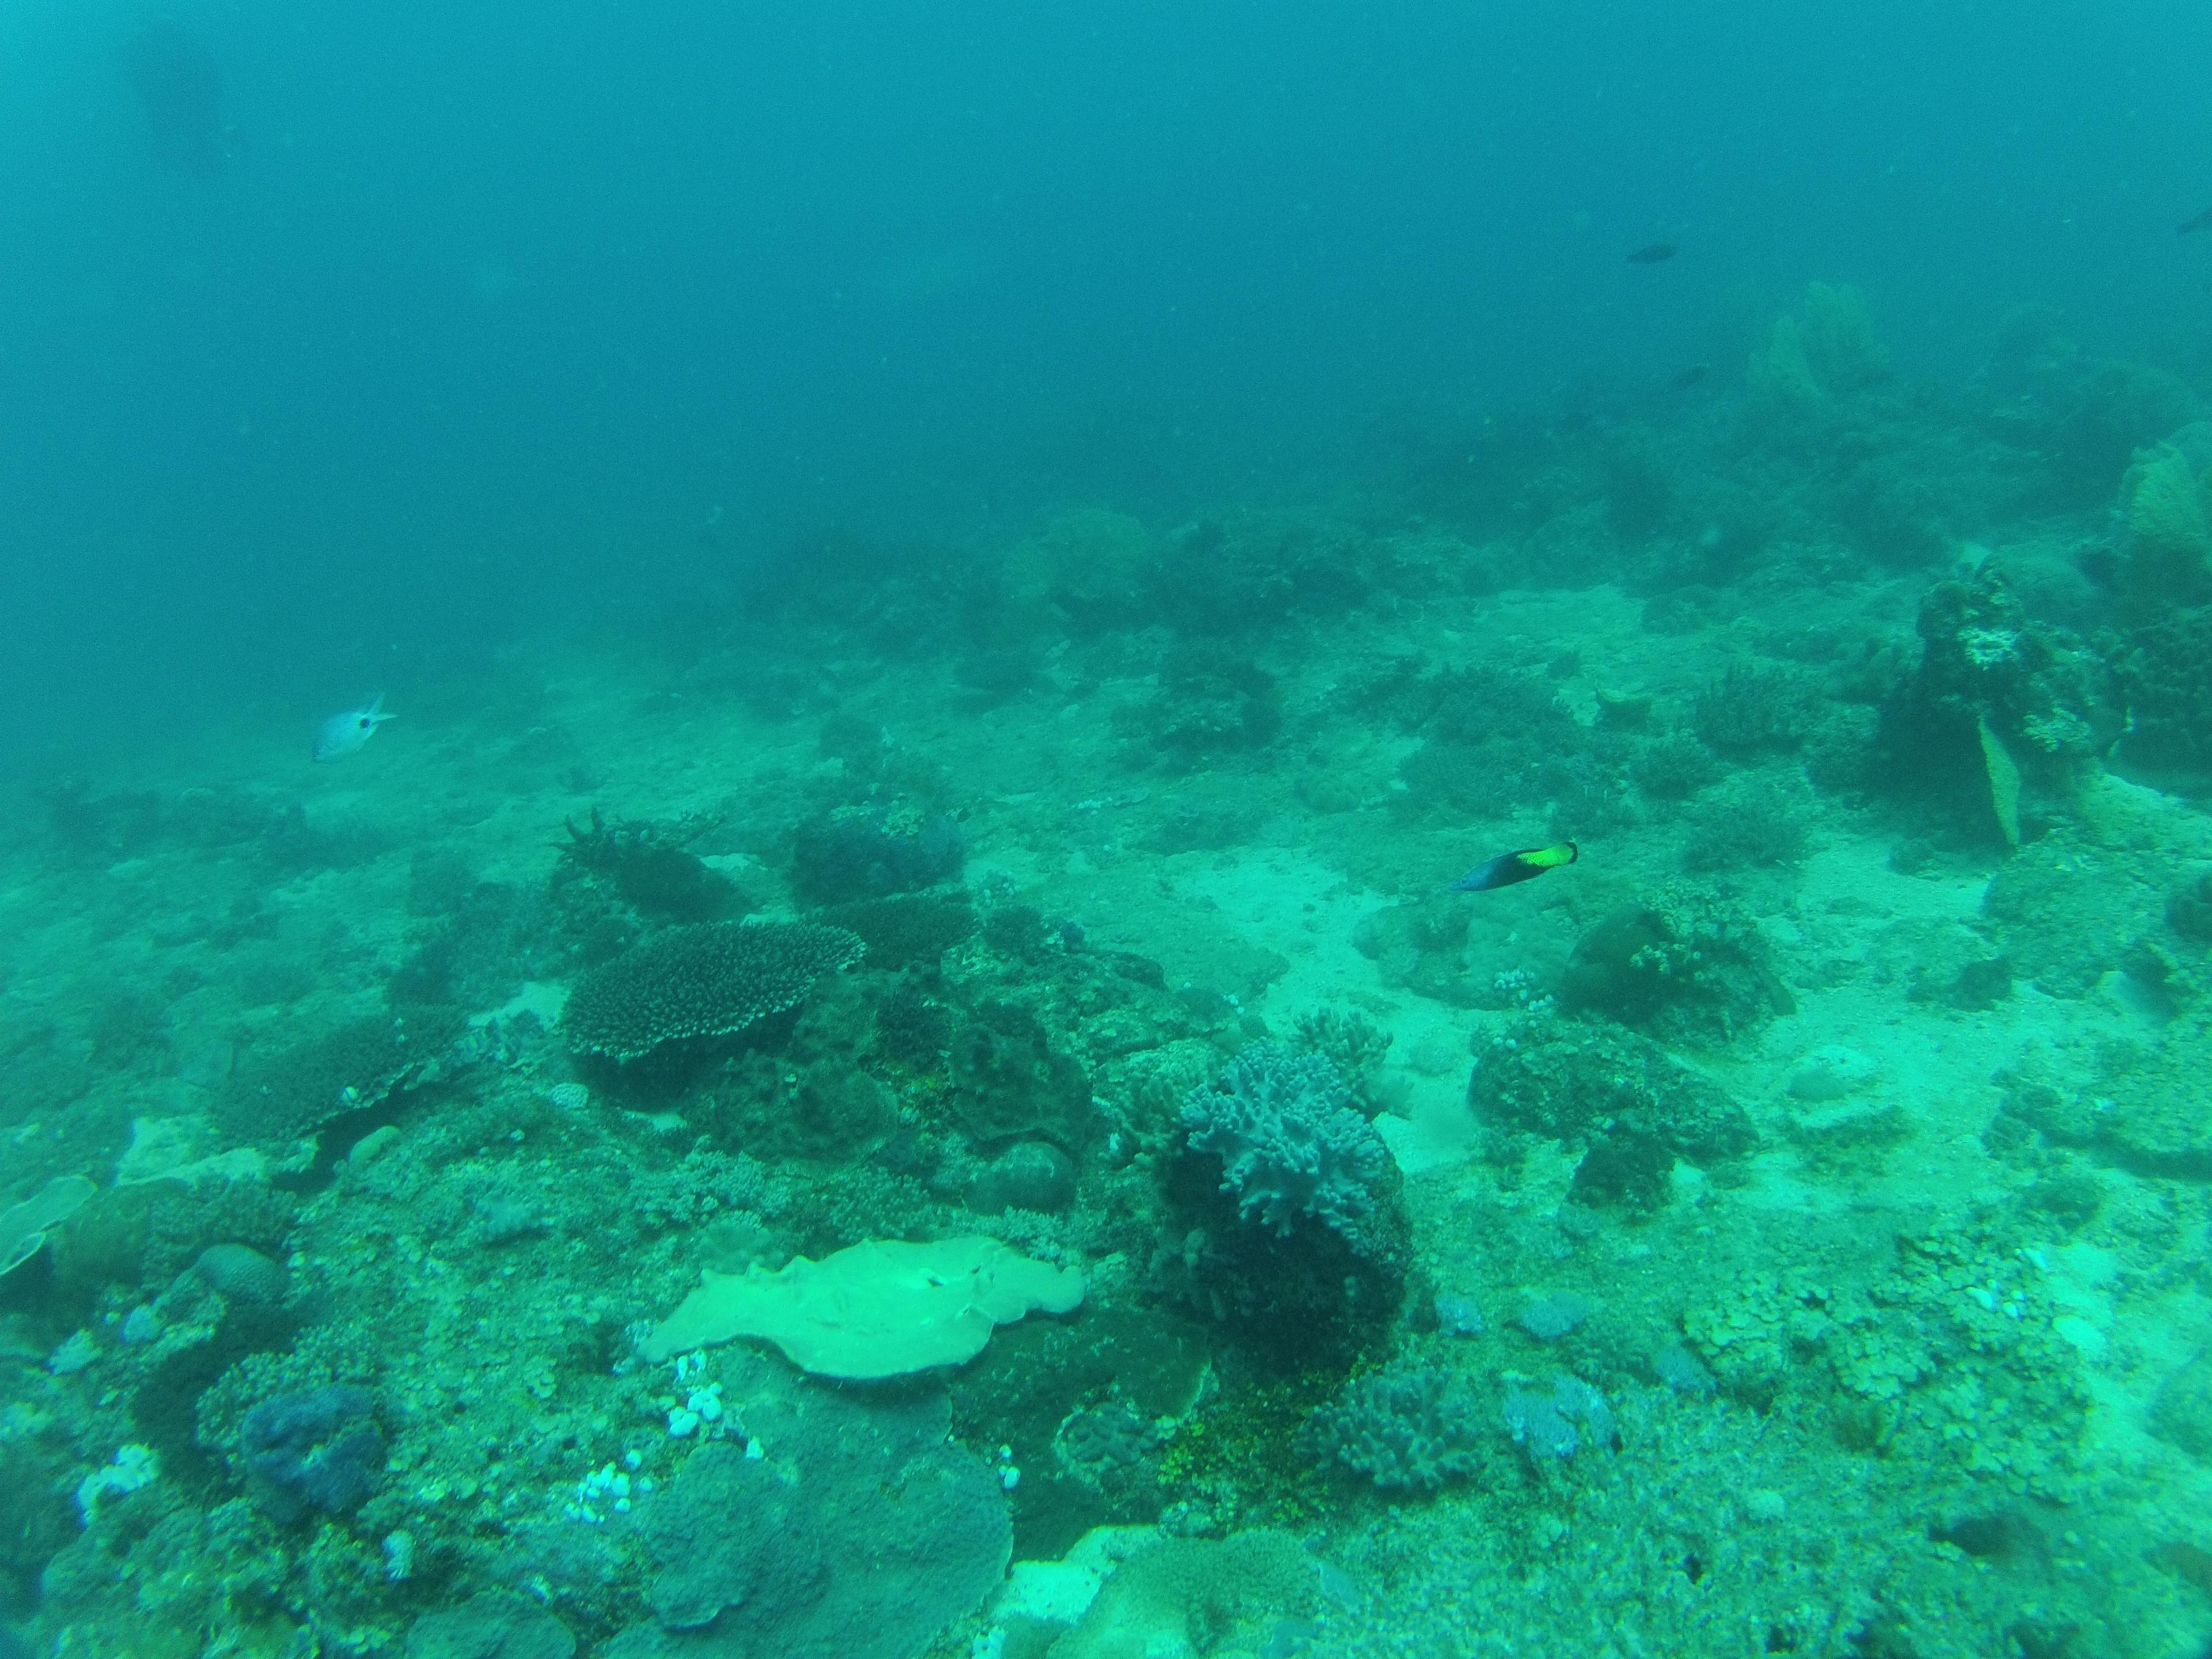Fish: (1392, 817, 1629, 920)
